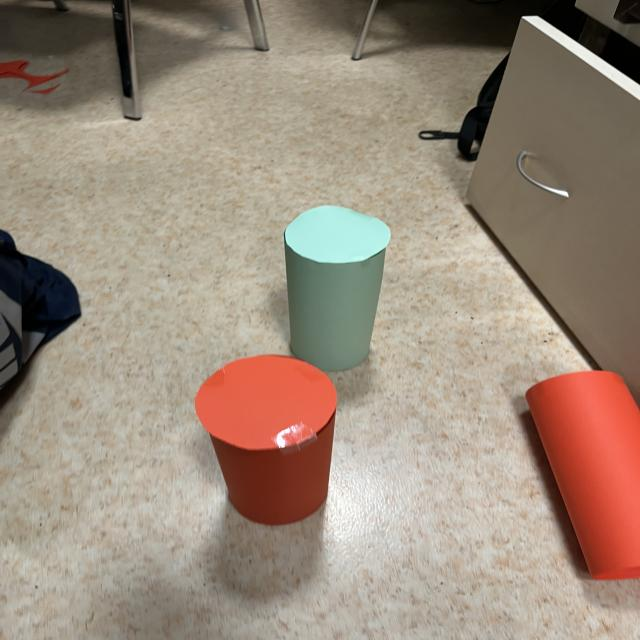meta: (284, 206, 390, 371)
przeszkoda: (195, 355, 337, 525), (526, 371, 640, 579)
